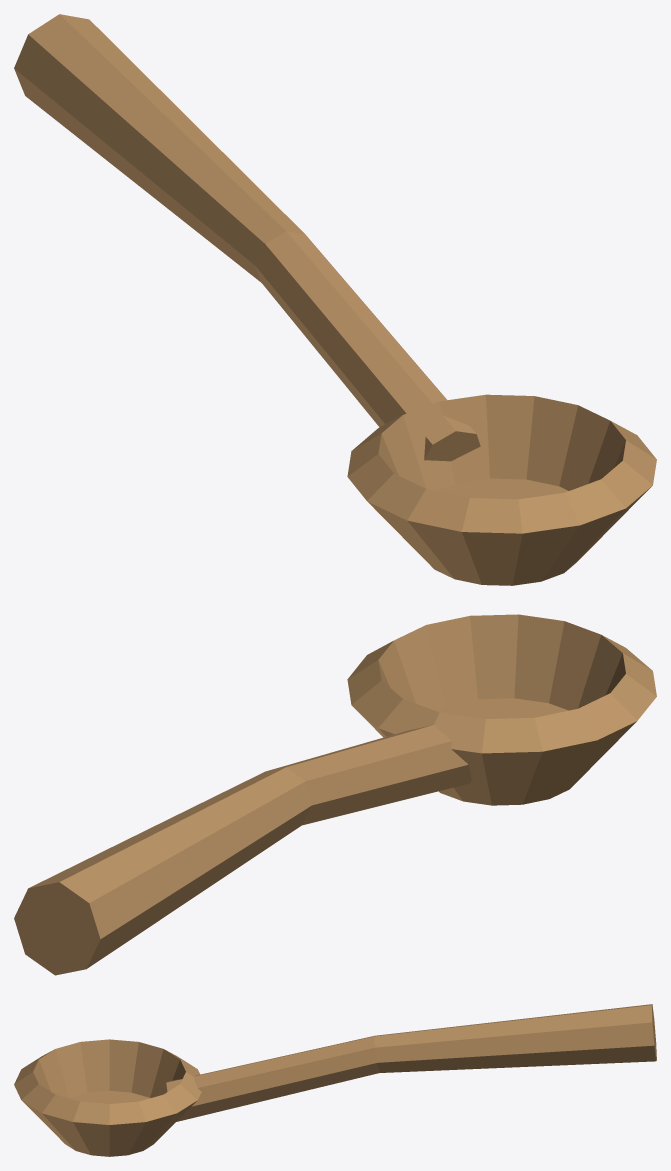
The model's file is ladle.glb.
The picture shows the model from 3 angles, top to bottom: view 1: azimuth 30°, elevation 25°; view 2: azimuth 150°, elevation 25°; view 3: azimuth 270°, elevation 25°; orthographic projection. The views are drawn at different scales.
Visible parts, largest first — view 1: Ladle • carved wooden cup.001; view 2: Ladle • carved wooden cup.001; view 3: Ladle • carved wooden cup.001.
Part boxes in pixels (bbox=[...]): Ladle • carved wooden cup.001: bbox=[14, 14, 656, 585]; Ladle • carved wooden cup.001: bbox=[14, 614, 656, 975]; Ladle • carved wooden cup.001: bbox=[14, 1004, 656, 1156].
Bounding box in the file's own units: 0.2 × 0.1519 × 0.6727.
